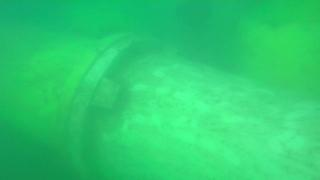pipe: (1, 19, 320, 180), (209, 1, 320, 93), (29, 1, 182, 41)
